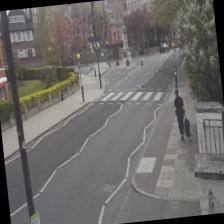person: (172, 89, 188, 142)
